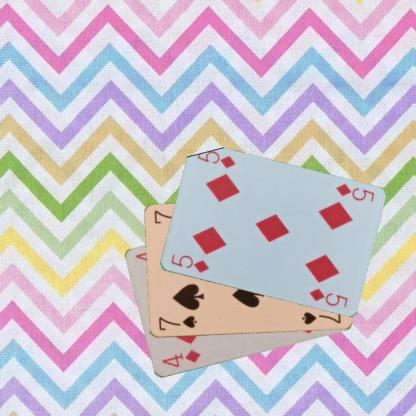4d: (159, 347, 202, 369)
5d: (168, 252, 210, 274), (333, 181, 375, 203)
7s: (156, 313, 198, 332)
